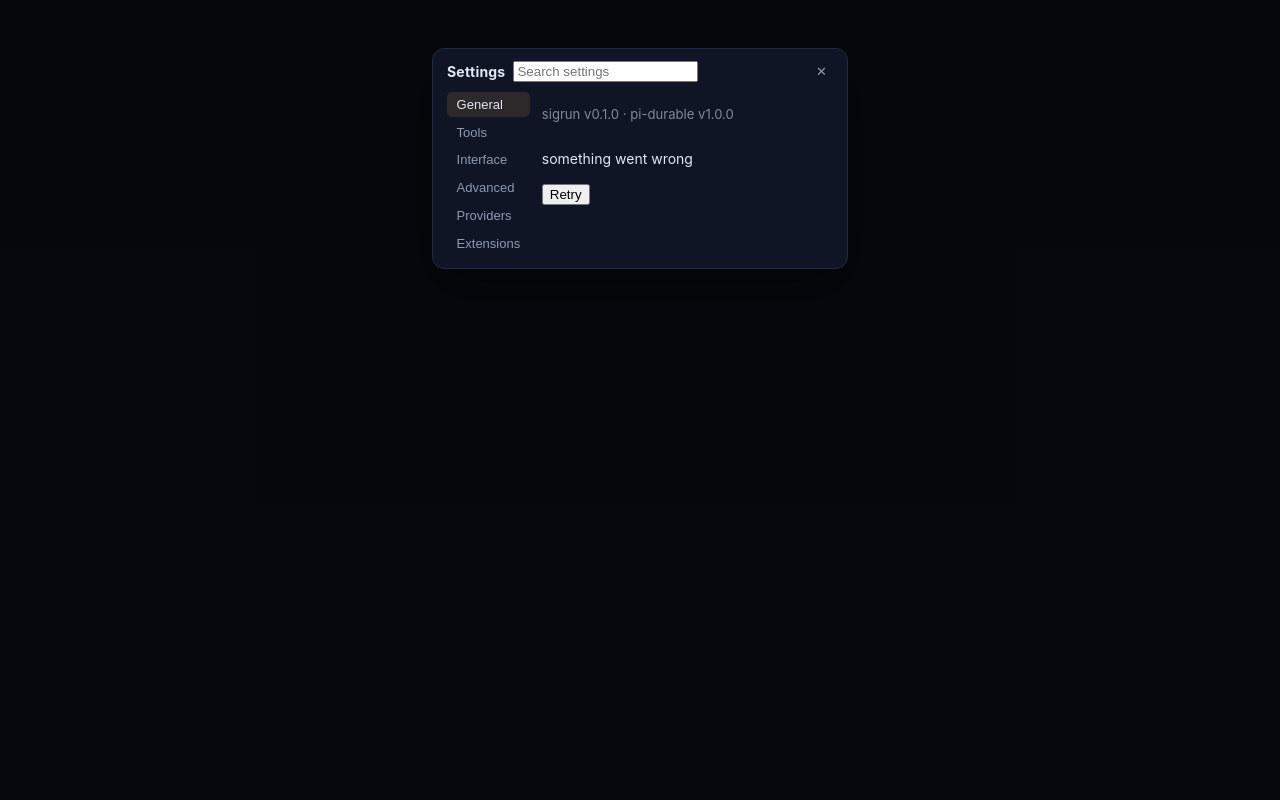
Test: SettingsPanel Providers section › renders one row per provider: name, readiness badge, model count (+ the tracker detail)
The image size is (1280, 800).
Click the button "Providers": (488, 215) left=447, top=203, right=530, bottom=228
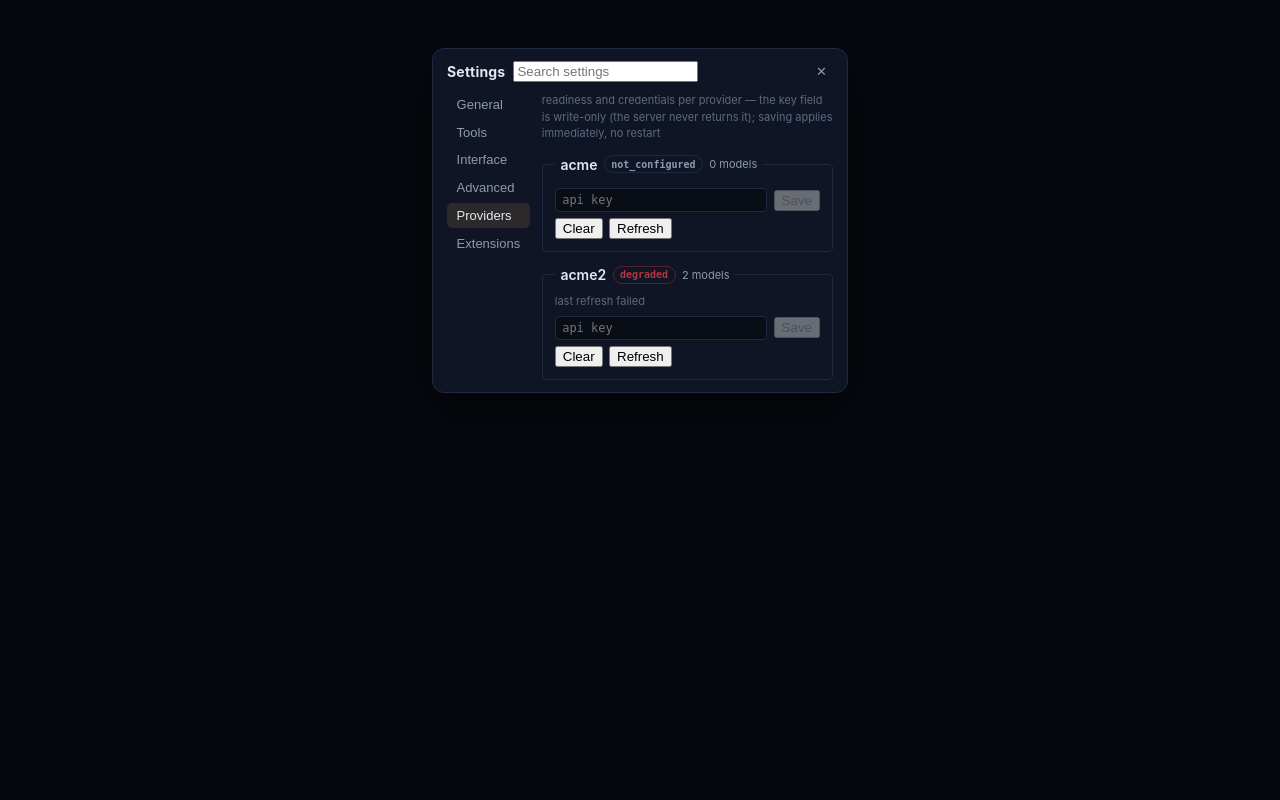
Expected: the text "not_configured" is shown, left=604, top=155, right=703, bottom=173
Expected: the text "degraded" is shown, left=613, top=266, right=676, bottom=284
Expected: the text "0 models" is shown, left=709, top=156, right=757, bottom=172
